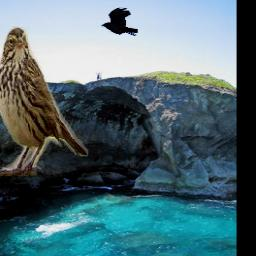Crow: (101, 8, 138, 37)
Sparrow: (0, 26, 89, 176)
